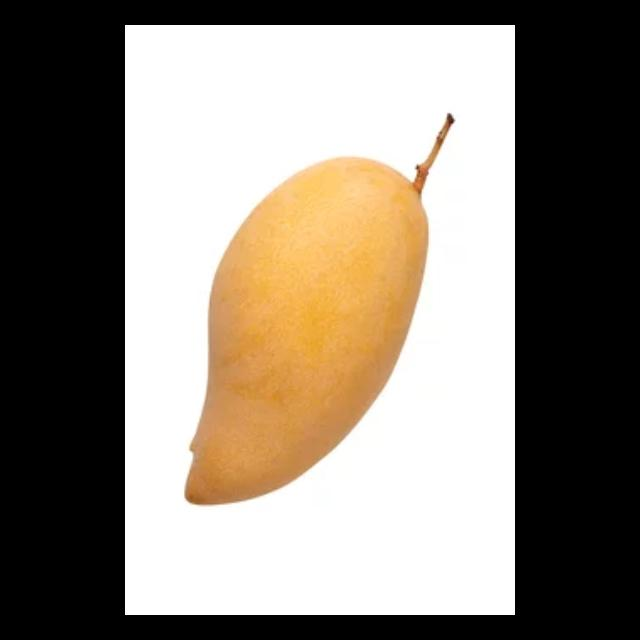mango: (184, 155, 428, 505)
